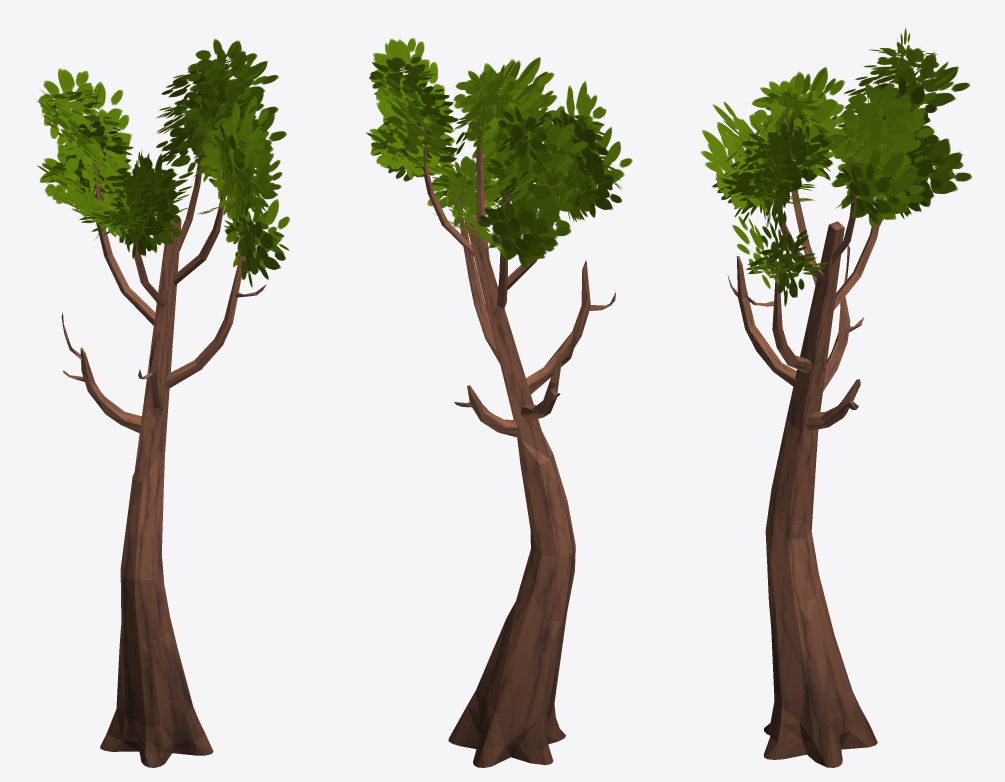
File: tree-b.glb
3 views of the same model, side by side, from view 1: azimuth 30°, elevation 25°; view 2: azimuth 150°, elevation 25°; view 3: azimuth 270°, elevation 25° (orthographic). The views are drawn at different scales.
Parts seen in each view (by area): view 1: CommonTree_4; view 2: CommonTree_4; view 3: CommonTree_4.
Part boxes in pixels (x1,y1,x2,y2): CommonTree_4: (37,39,289,767); CommonTree_4: (365,38,632,767); CommonTree_4: (700,28,971,767).
Bounding box in the file's own units: 3.83 × 9.44 × 3.76.
2 materials, 2 textured.
